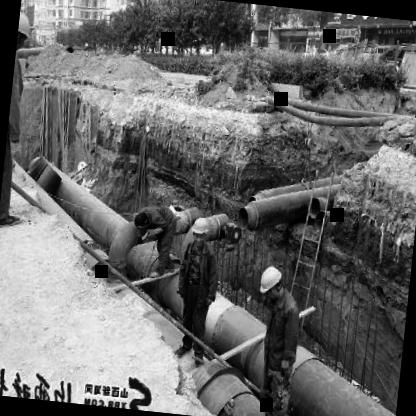helmet: (256, 262, 286, 304), (187, 218, 213, 252), (16, 8, 34, 52)
